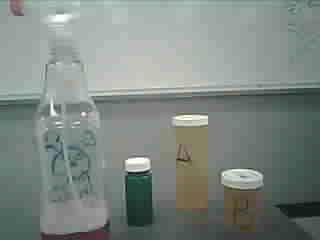Bottle A: (166, 102, 215, 219)
Bottle B: (217, 162, 272, 240)
Bottle C: (117, 151, 161, 228)
hazard: (7, 0, 117, 240)
